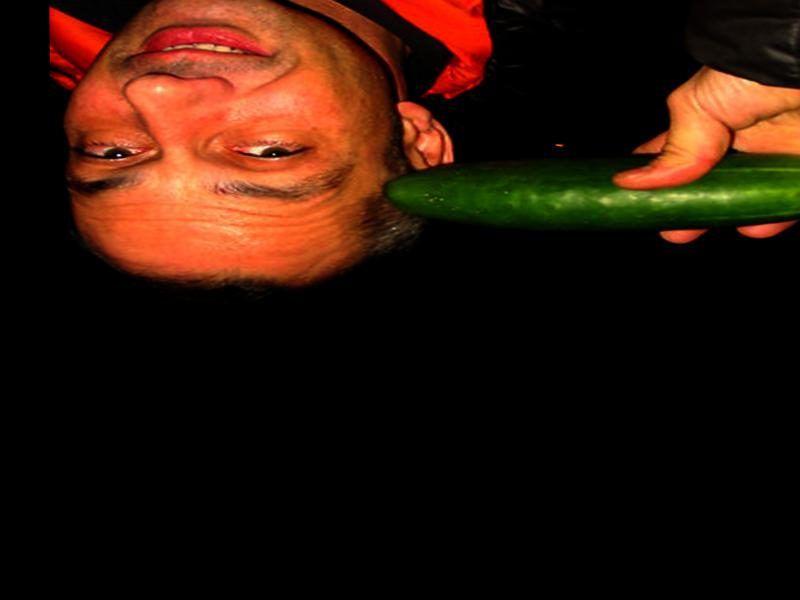Cucumber: (380, 153, 800, 231)
